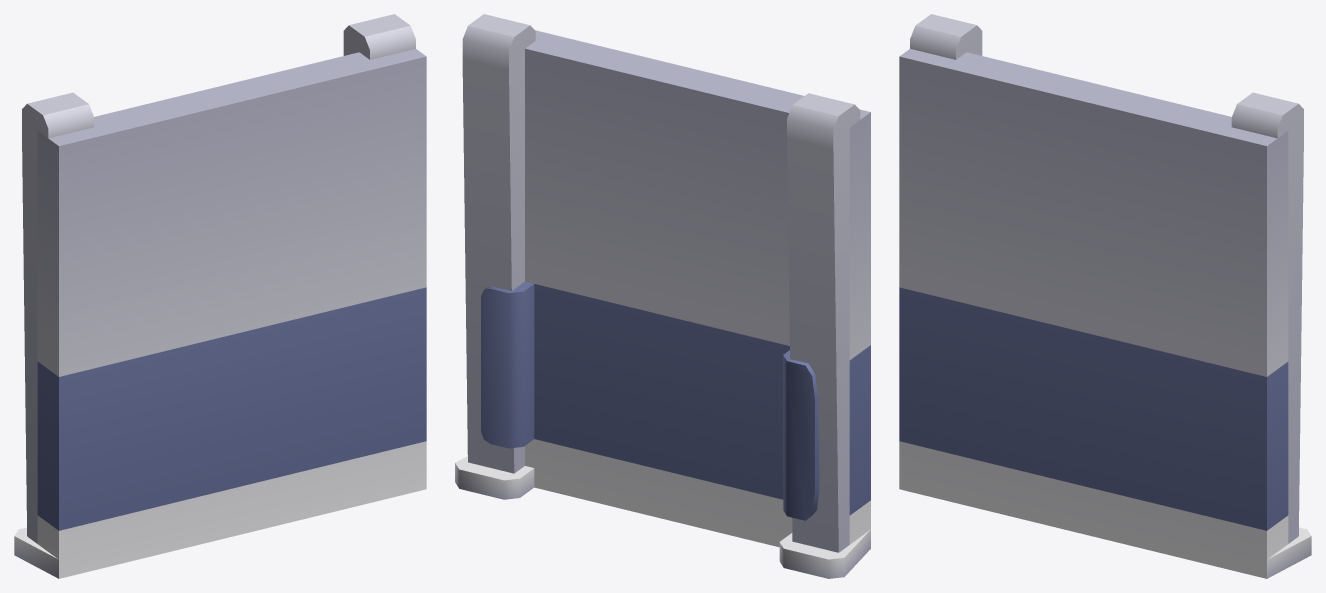
Rendered from kenney-space-template-wall-top.glb.
The picture shows the model from 3 angles, left to right: view 1: azimuth 30°, elevation 25°; view 2: azimuth 150°, elevation 25°; view 3: azimuth 330°, elevation 25°; orthographic projection.
Parts seen in each view (by area): view 1: template-wall-top; view 2: template-wall-top; view 3: template-wall-top.
Part boxes in pixels (box(x1,y1,x2,y2)): template-wall-top: box(14, 14, 426, 578); template-wall-top: box(455, 14, 870, 578); template-wall-top: box(899, 14, 1311, 578).
Size of the model in its own units: 3.15 by 3.52 by 0.5815.
1 material, 1 textured.
